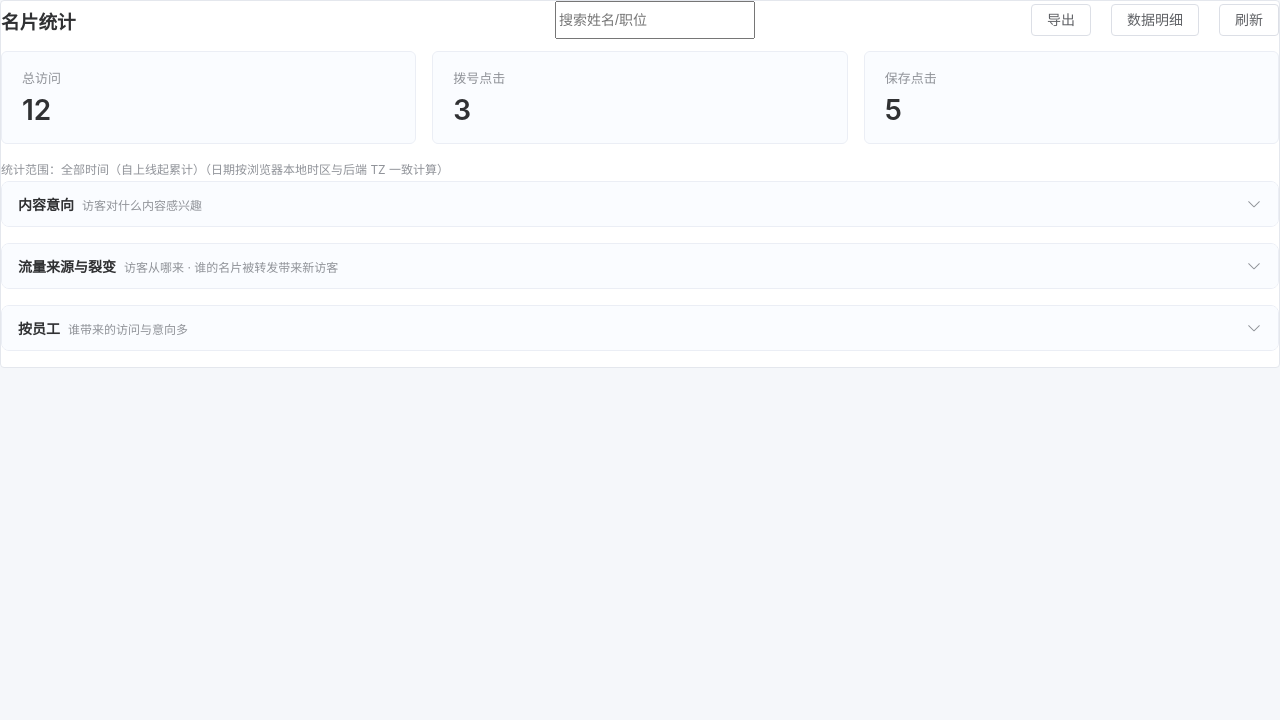
Test: Stats › 按员工折叠区默认收起，展开后含员工表
This screenshot has width=1280, height=720.
Click the 3rd element with class "fold-head" at (640, 328), box [2,306,1278,350]
(page scrolled)
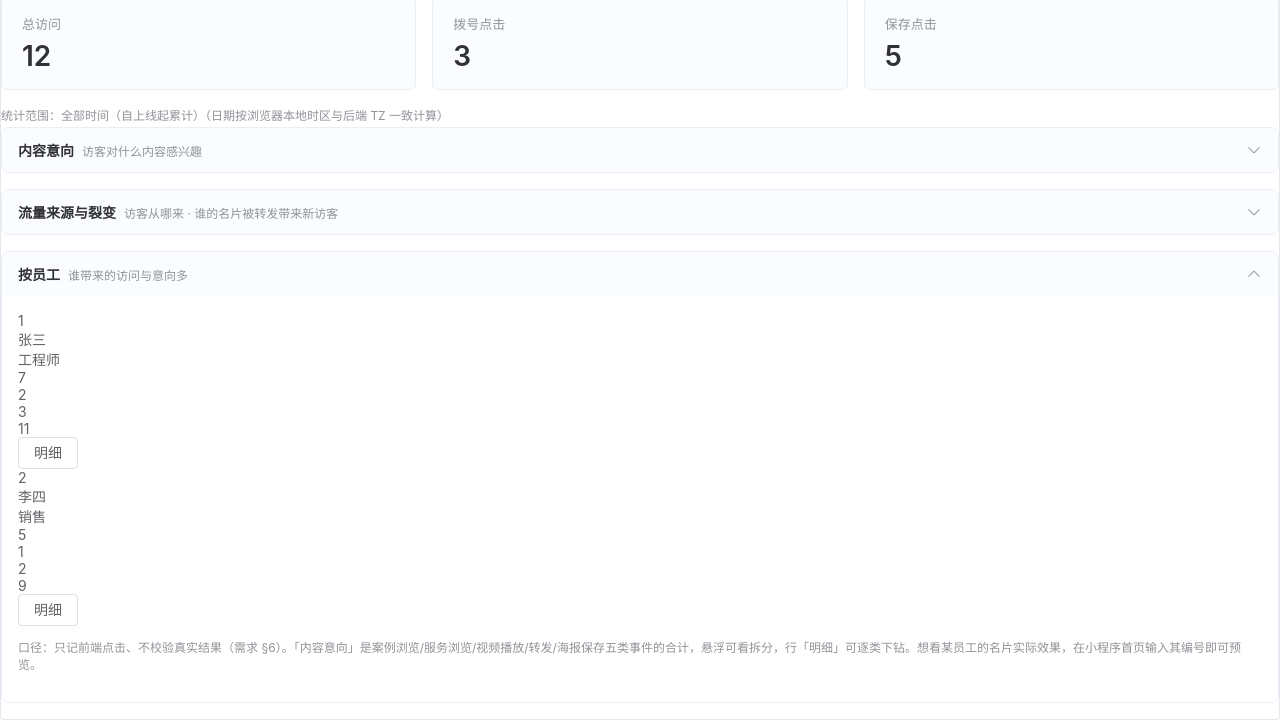
Expected: the element showing "1 张三 工程师 7 2 3 11 明细 2 李四 销售 5 1 2 9 明细" is shown, [18,312,1262,626]
